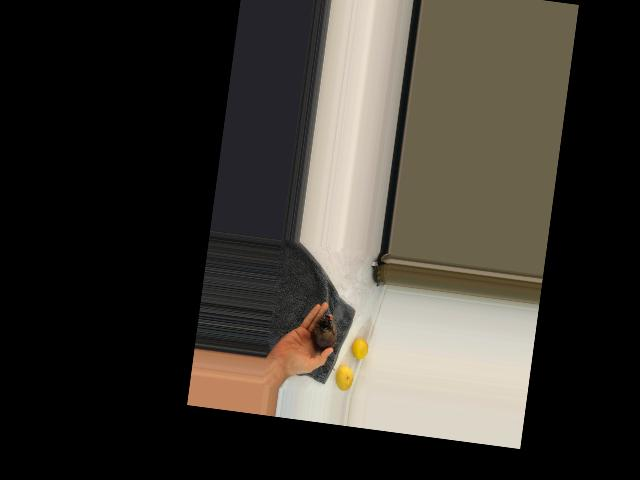beet: (307, 313, 341, 370)
